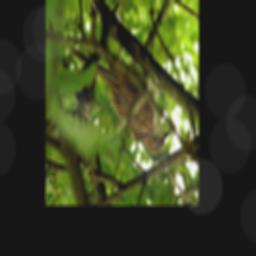Cuckoo: (67, 44, 171, 157)
